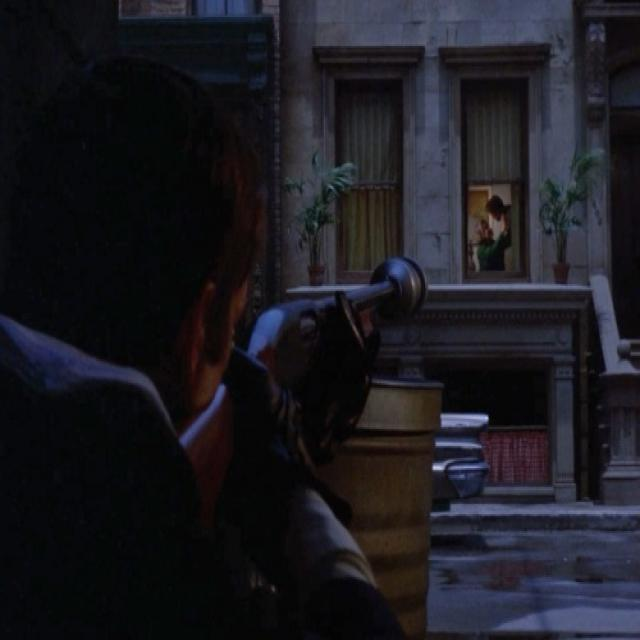rifle: (175, 279, 398, 492)
